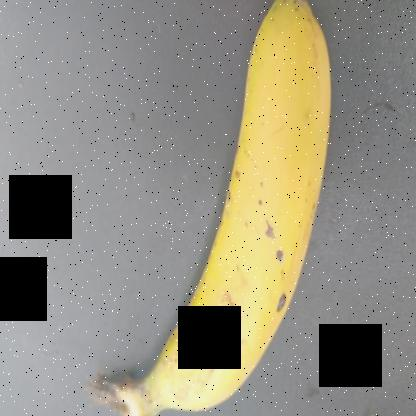ripe: (158, 1, 360, 415)
